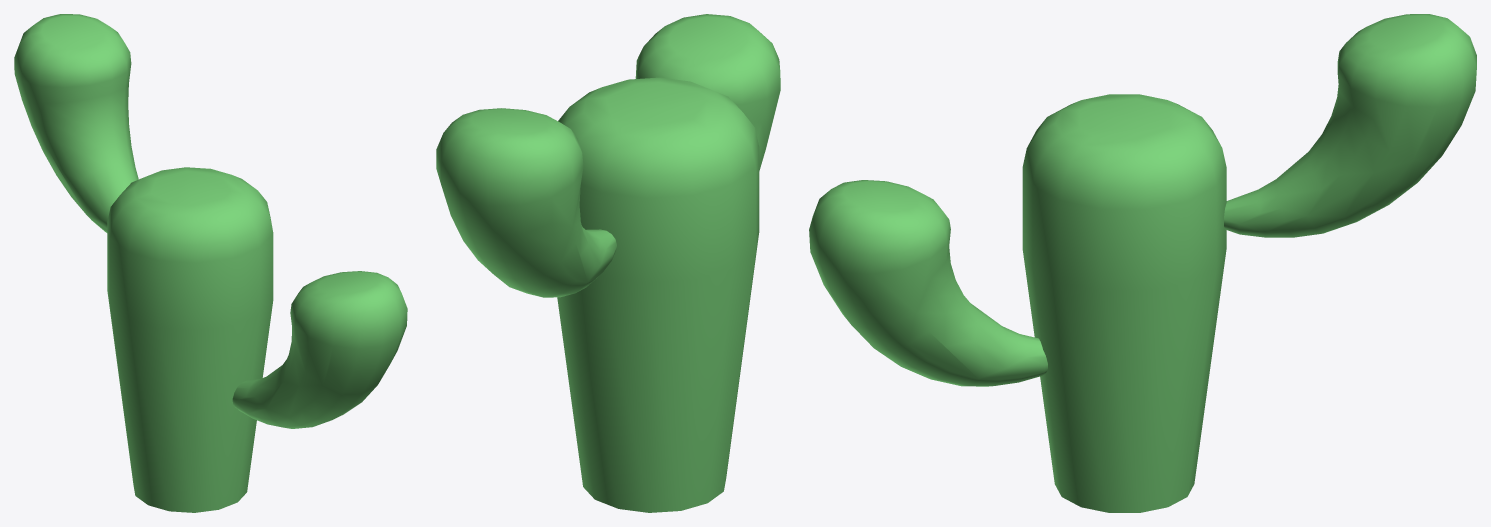
The model's file is Cactus001.fbx.
3 views of the same model, side by side, from view 1: azimuth 30°, elevation 25°; view 2: azimuth 150°, elevation 25°; view 3: azimuth 270°, elevation 25° (orthographic). The views are drawn at different scales.
Parts seen in each view (by area): view 1: Cactus001; view 2: Cactus001; view 3: Cactus001.
Part boxes in pixels (x1,y1,x2,y2): Cactus001: (14, 14, 407, 512); Cactus001: (436, 14, 780, 512); Cactus001: (809, 14, 1476, 512).
Size of the model in its own units: 94.52 by 189 by 251.
